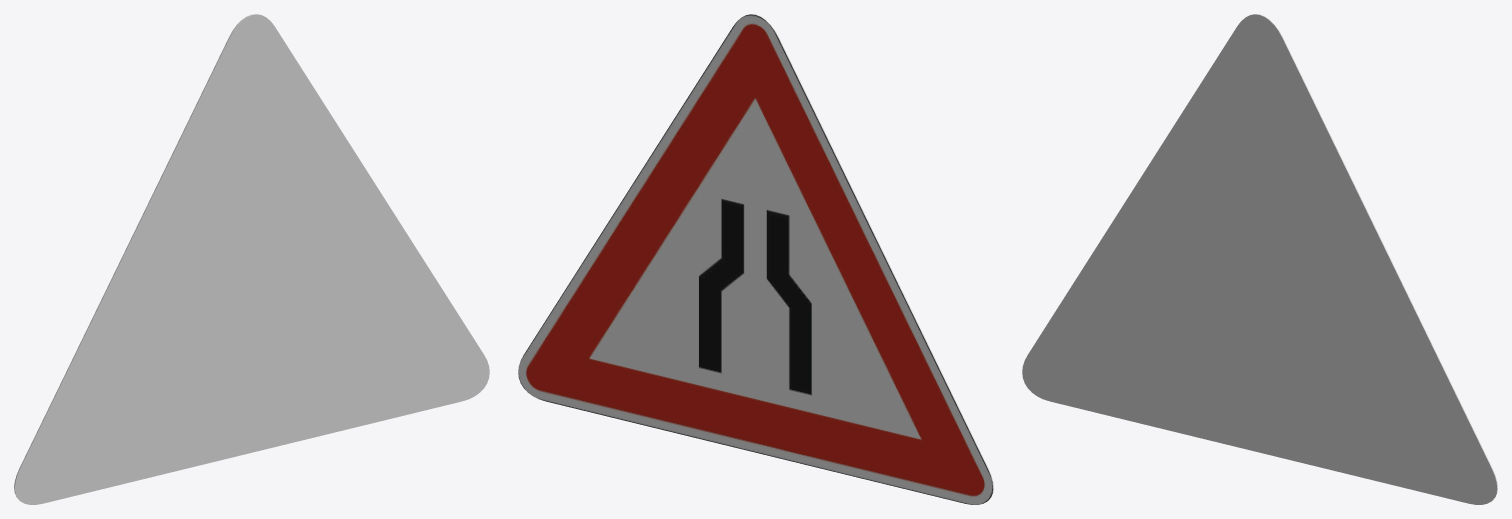
3 views of the same model, side by side, from view 1: azimuth 30°, elevation 25°; view 2: azimuth 150°, elevation 25°; view 3: azimuth 330°, elevation 25° (orthographic).
Visible parts, largest first — view 1: Plane; view 2: Plane; view 3: Plane.
Boxes of the visible parts, x1,y1,x2,y2 form: Plane: (14,14,489,504); Plane: (518,14,993,504); Plane: (1022,14,1497,504).
Size of the model in its own units: 0.8393 by 0.7391 by 0.002.
Materials: 2 (1 with a texture image).
